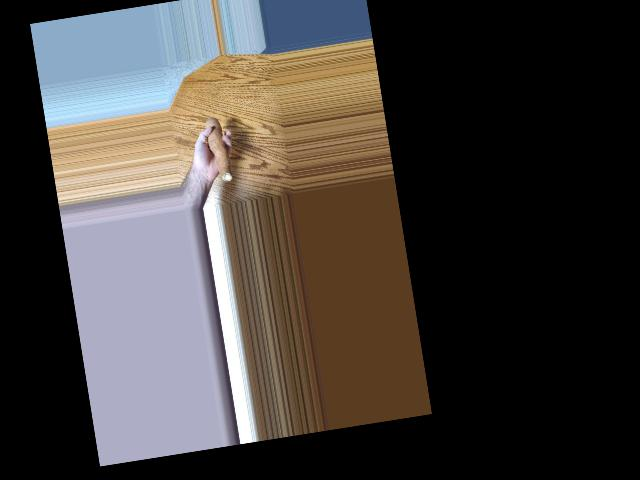sweet_potato: (203, 119, 233, 178)
